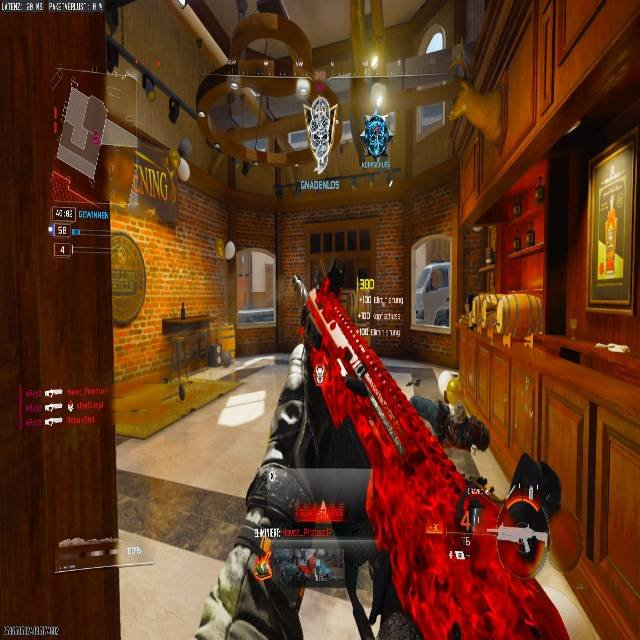head: (230, 1, 312, 97)
player: (173, 0, 343, 184), (359, 107, 391, 165)
